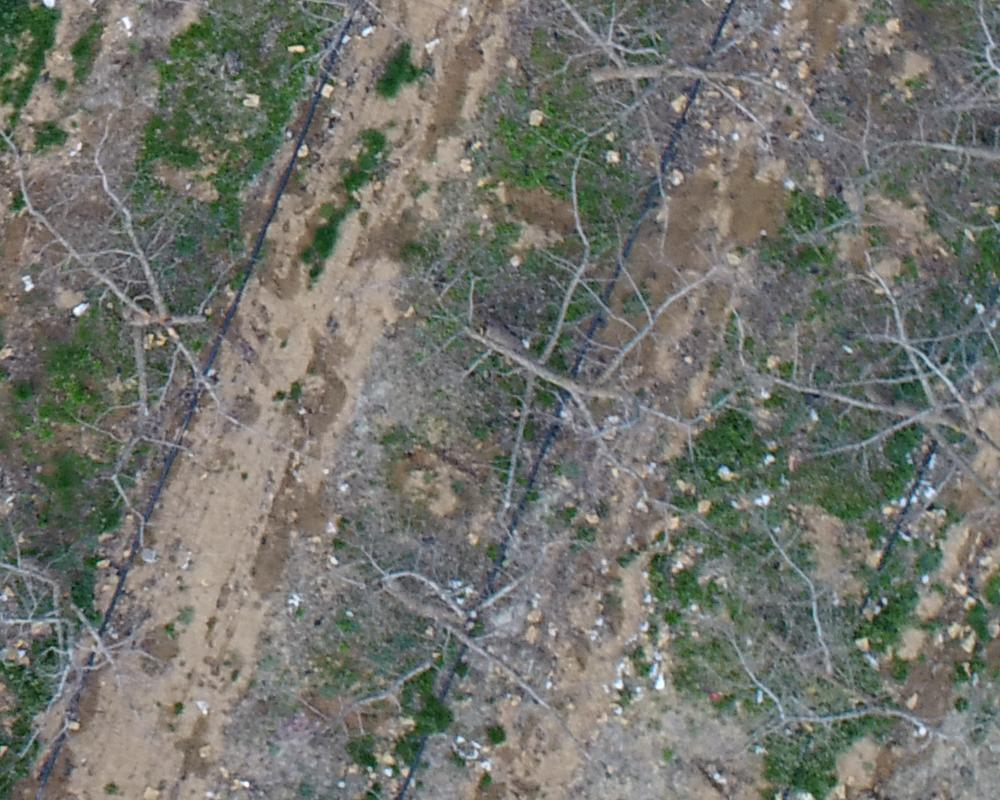apple: (414, 147, 737, 553), (10, 101, 293, 551), (678, 518, 990, 790), (766, 267, 990, 621), (513, 10, 837, 221), (311, 541, 585, 757), (10, 529, 188, 744)
